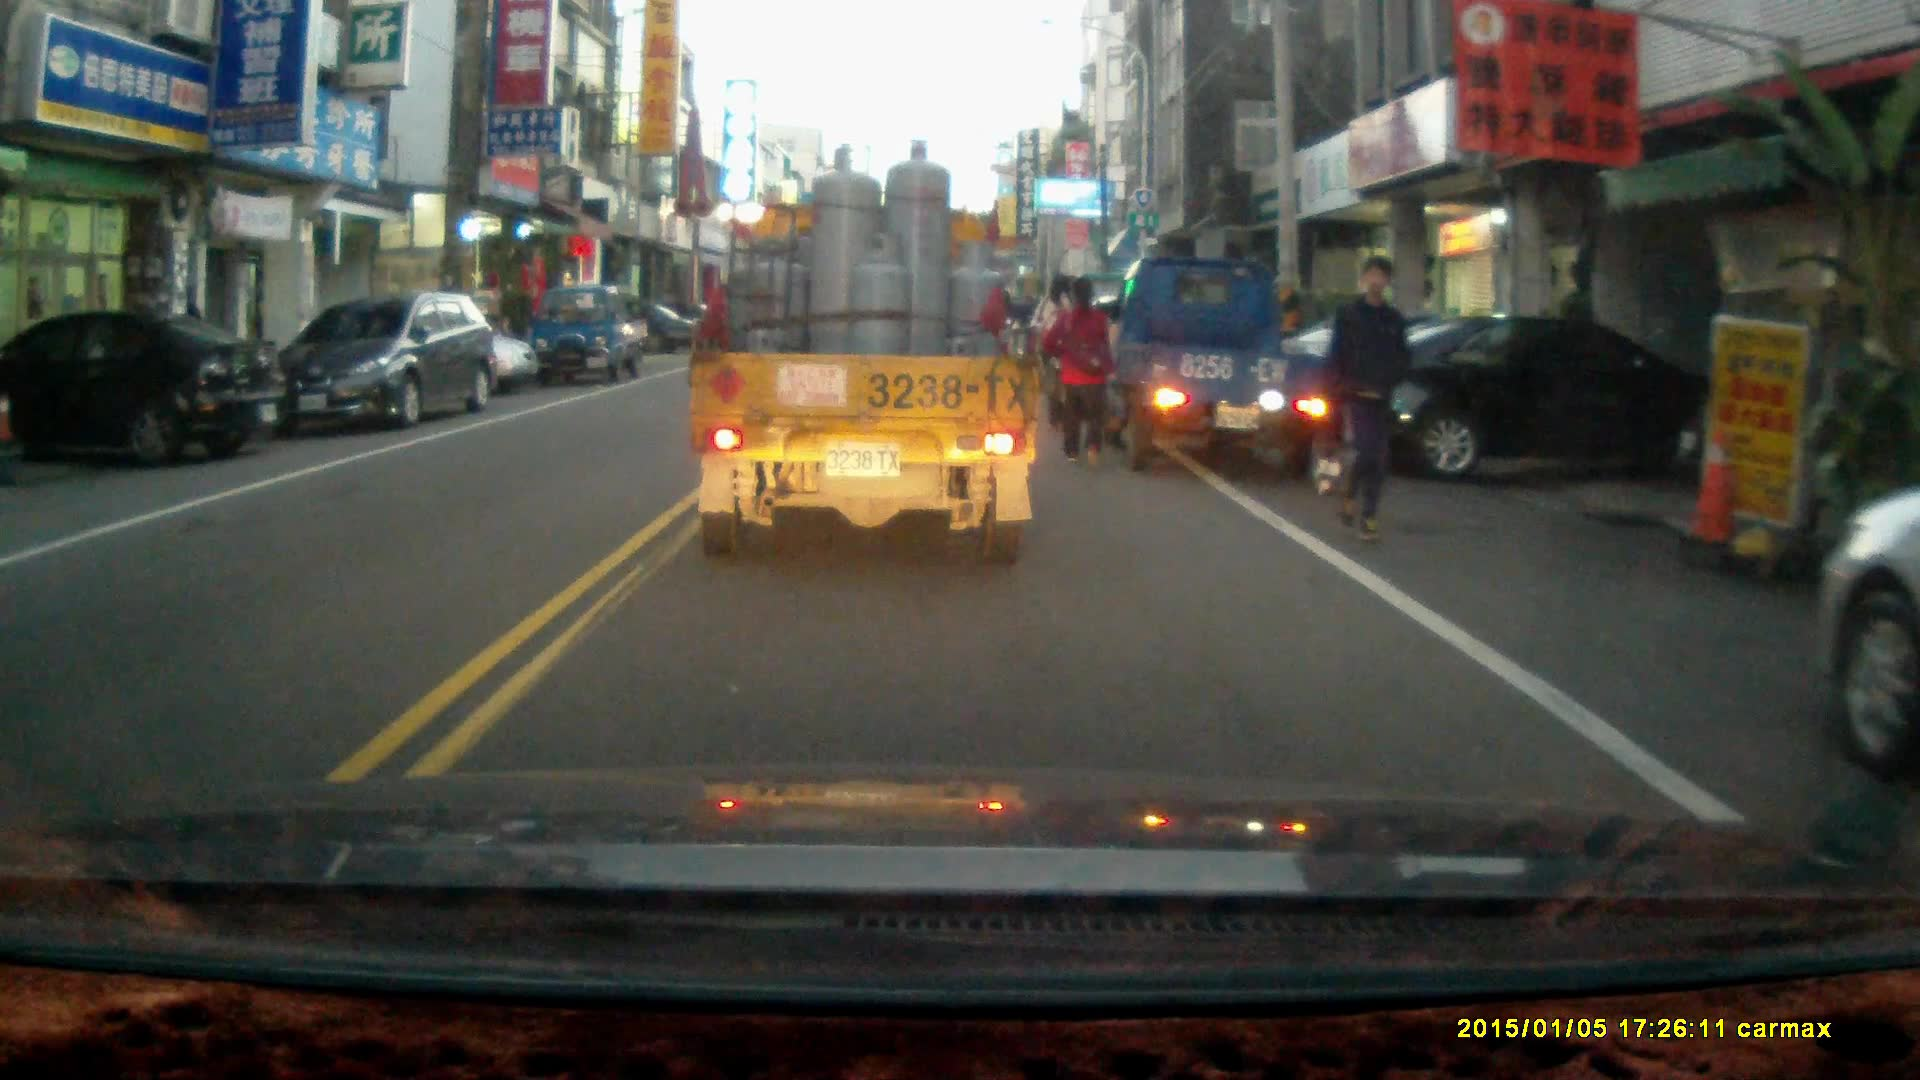pedestrian: (1317, 256, 1408, 545), (1044, 274, 1115, 466)
vehicle: (684, 139, 1044, 571), (1326, 306, 1662, 489), (1109, 254, 1354, 477), (1, 306, 289, 472), (261, 287, 507, 433), (1806, 499, 1920, 783), (532, 278, 653, 382)
